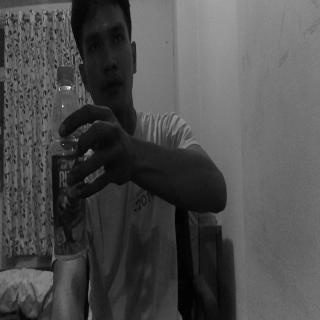plastic_bottles: (50, 63, 90, 257)
